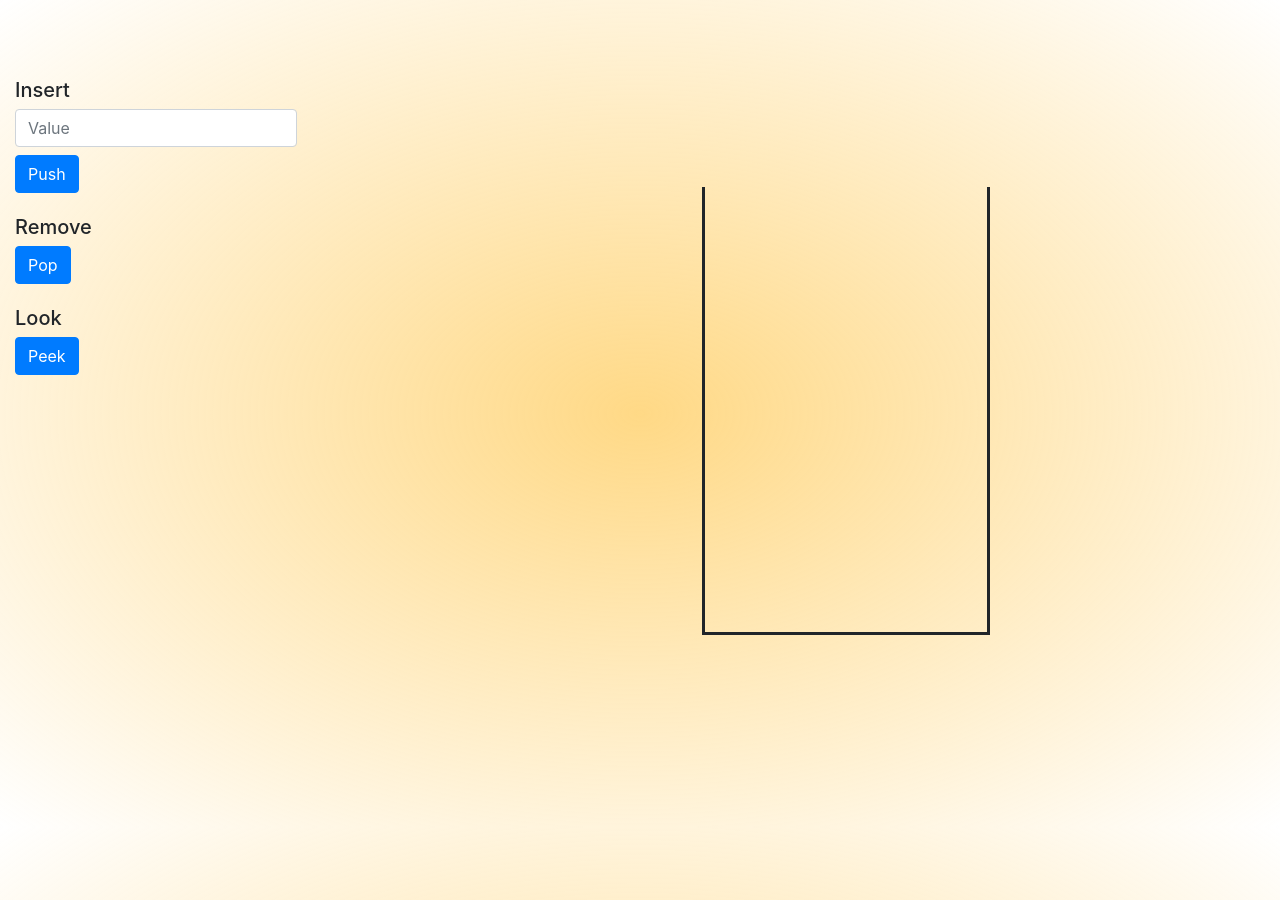
allows users to insert items in stack
The image size is (1280, 900).
Step 1. Type "one" into the field with placeholder "Value" → point(156, 128), box top-left (15, 109), bottom-right (297, 147)
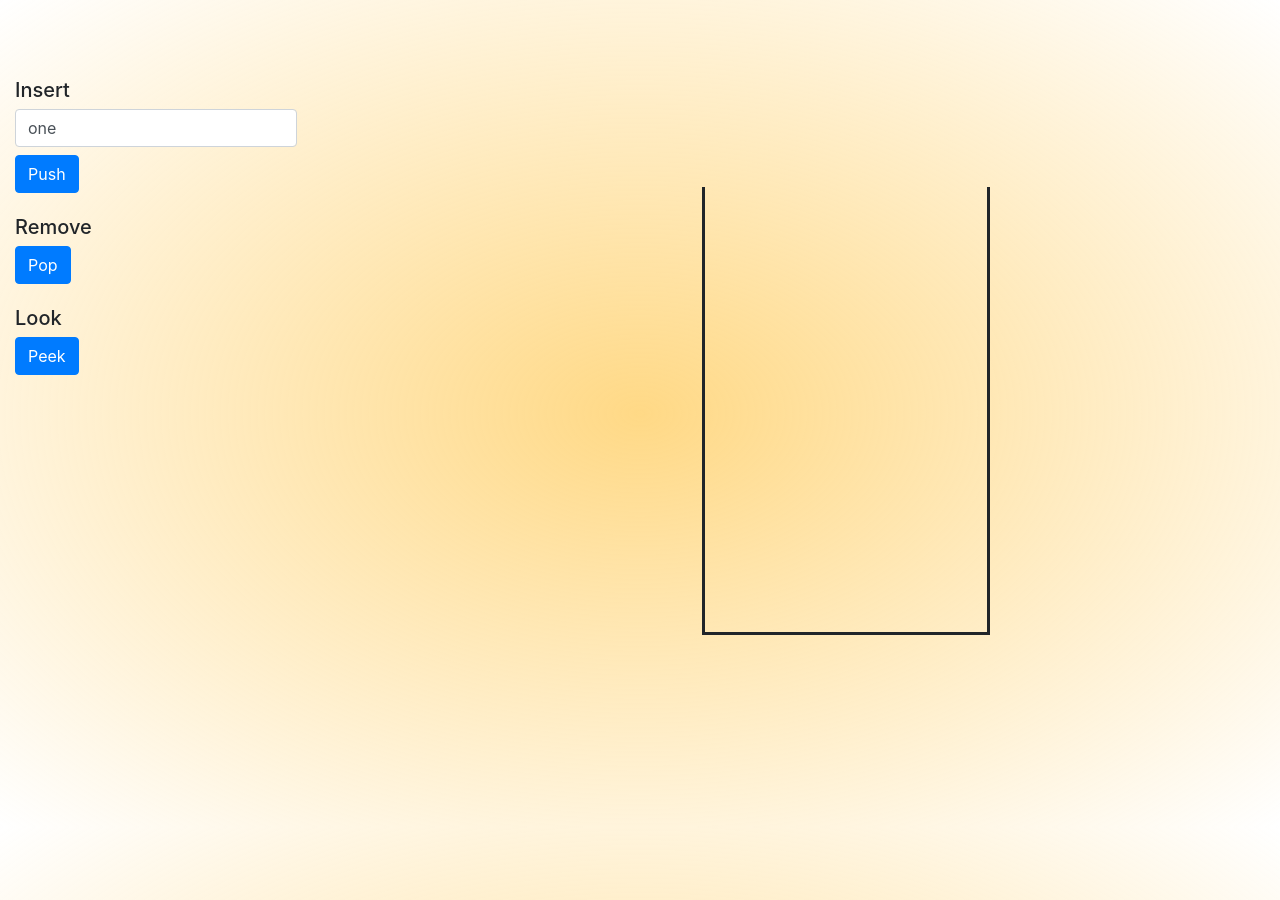
Step 2. Click the button "Push" → point(47, 174), box top-left (15, 155), bottom-right (79, 193)
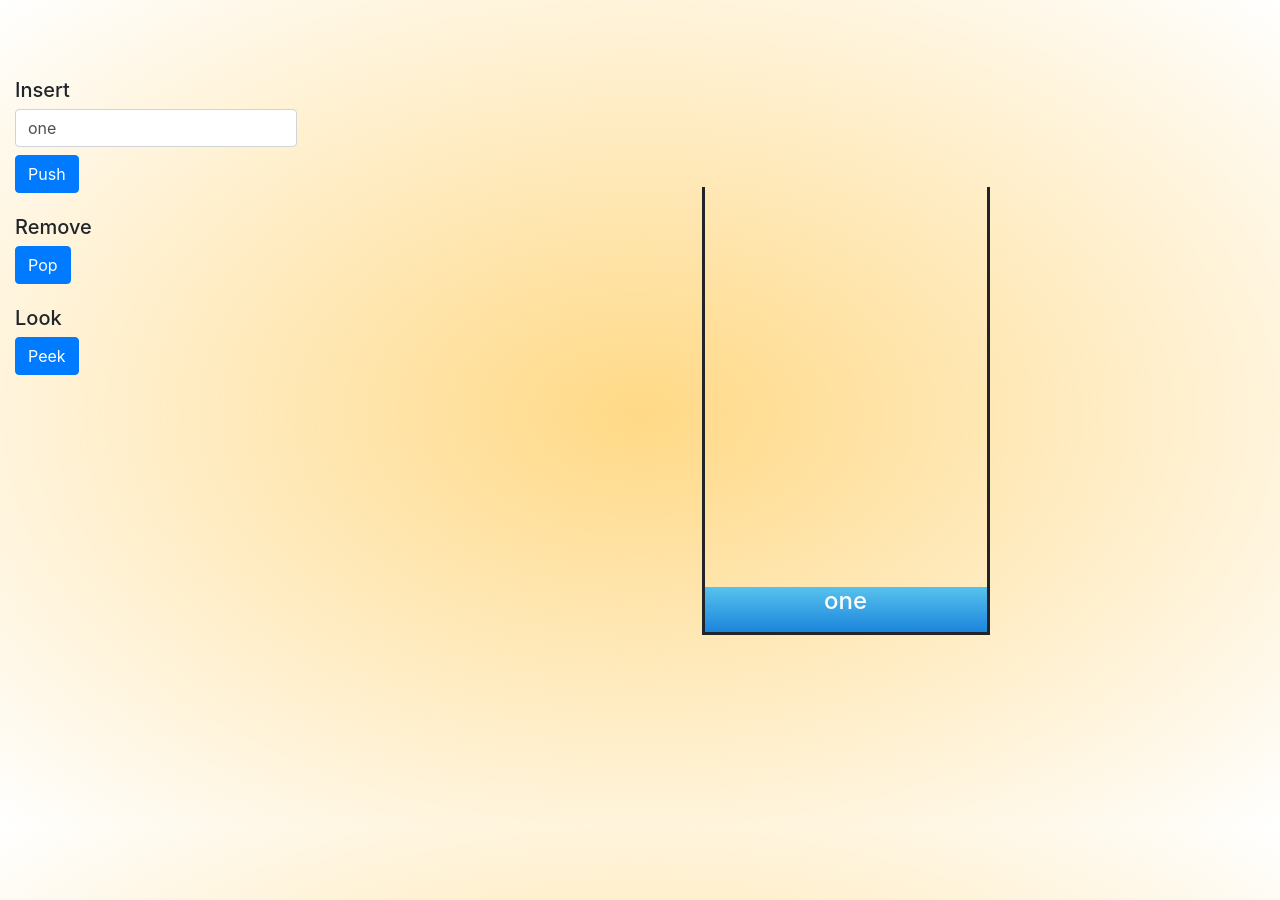
Check: the heading "one" is shown, box top-left (824, 586), bottom-right (867, 615)
